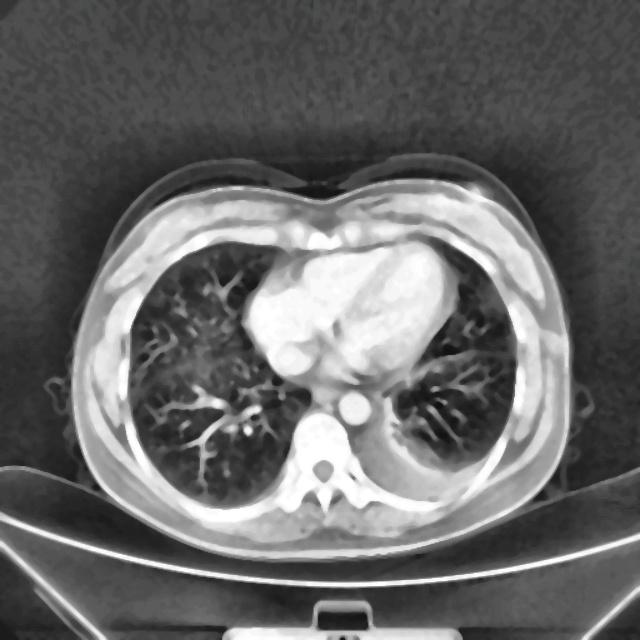covid: (70, 158, 573, 559)
